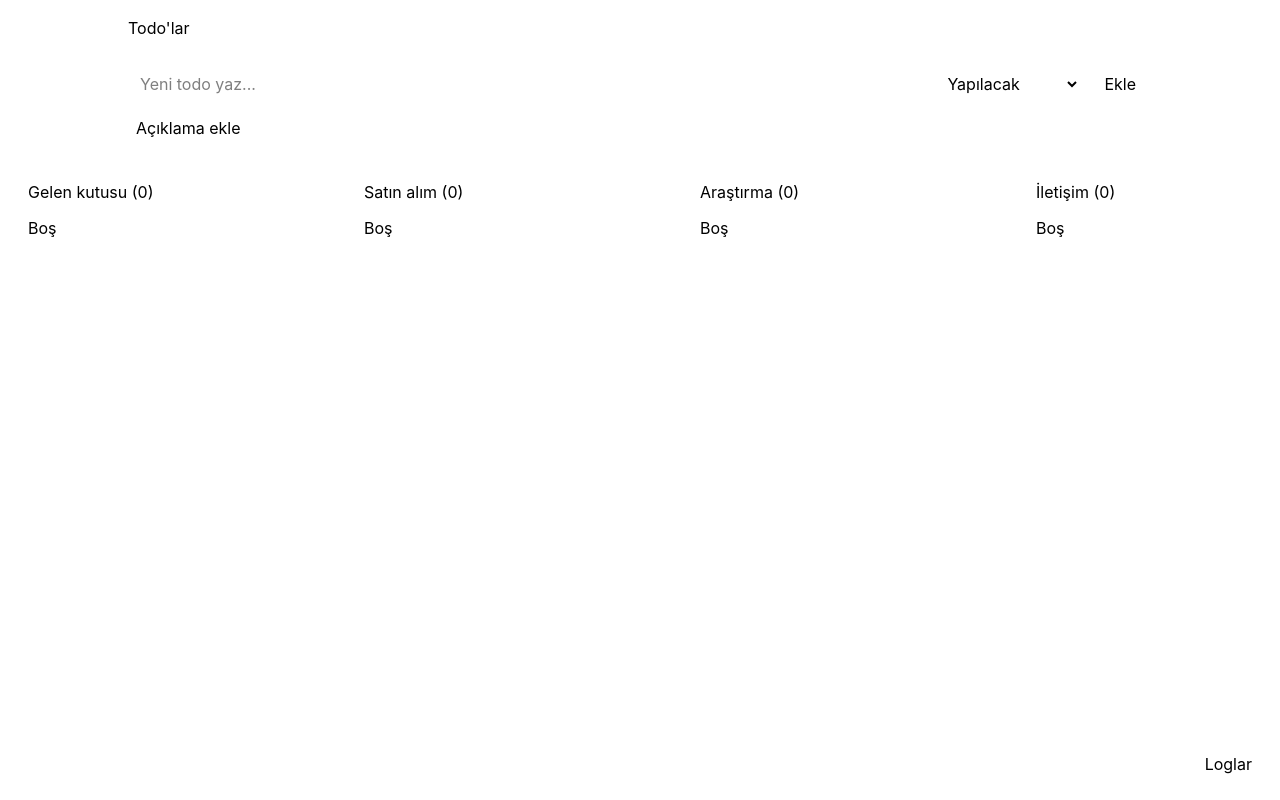
Scenario: add form › clears title and description after adding, closes the description field and keeps the status
The width and height of the screenshot is (1280, 800).
Type "Süt al" into the field named "Todo başlığı" at (526, 84), box [128,64,923,104]
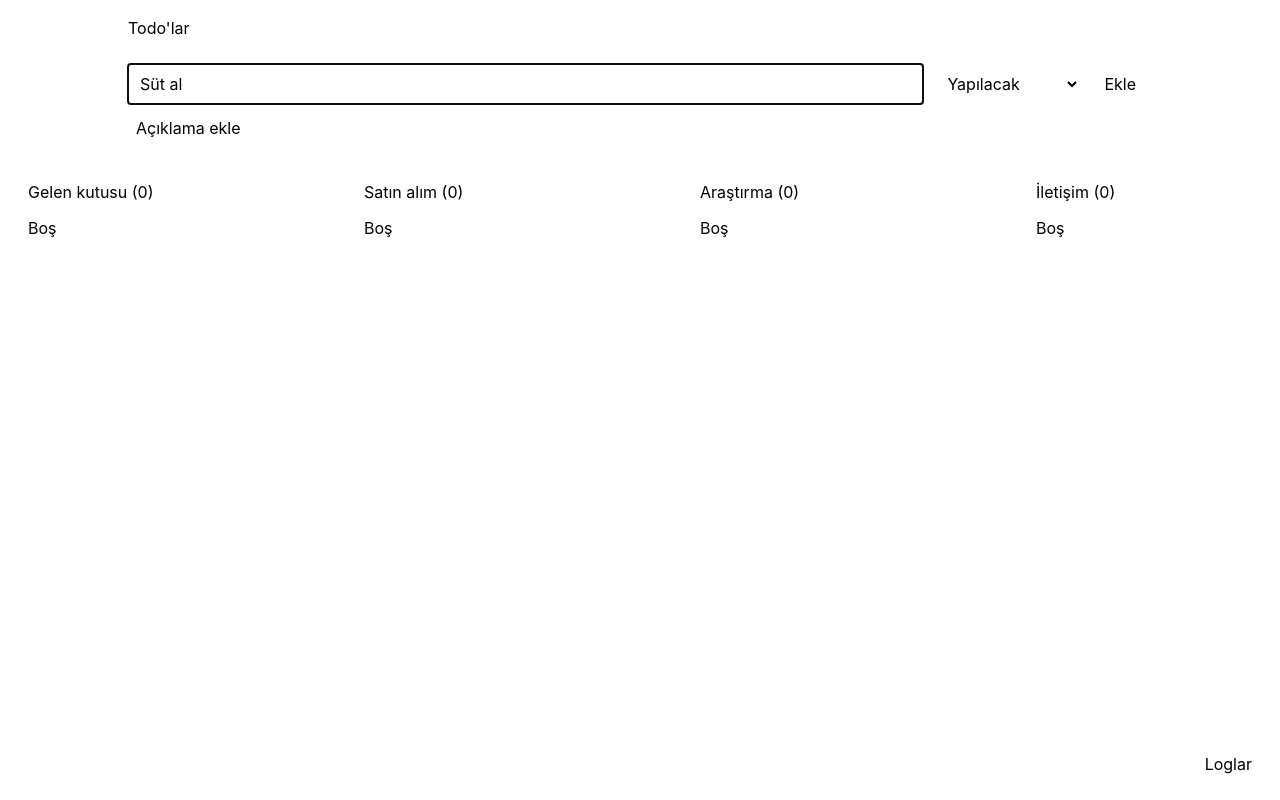
Click the button "Açıklama ekle" at (188, 128), box [128,112,248,144]
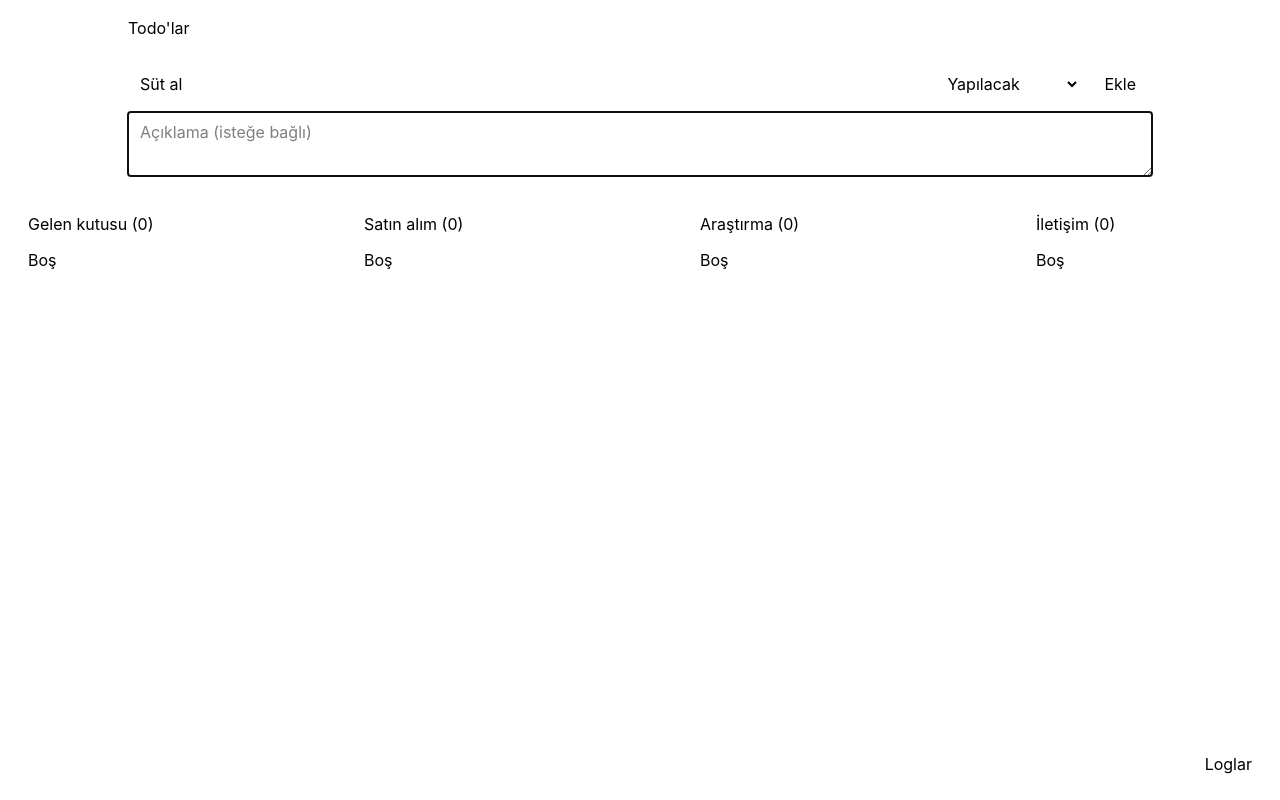
Type "2 litre" into the text box labelled "Açıklama" at (640, 144), box [128,112,1152,176]
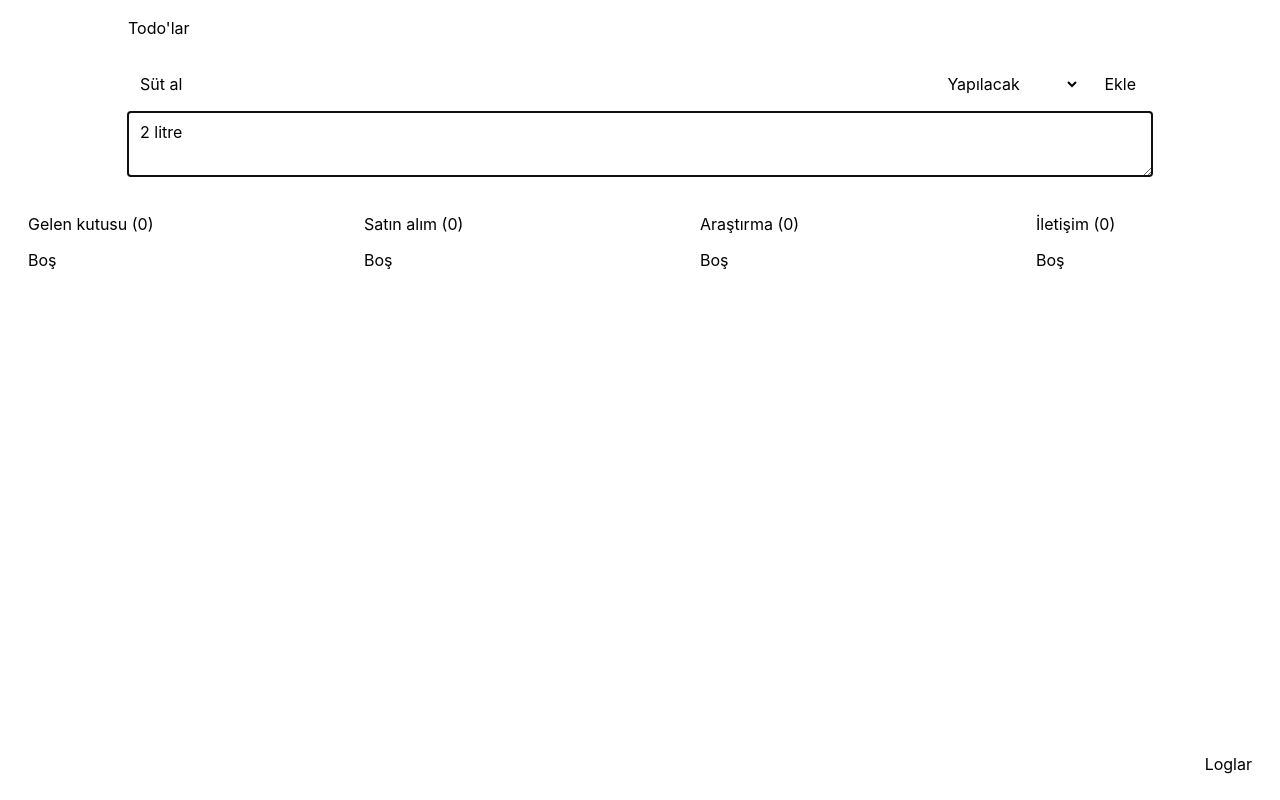
Select "Tamamlandı" in the dropdown named "Durum" at (1006, 84), box [931,64,1080,104]
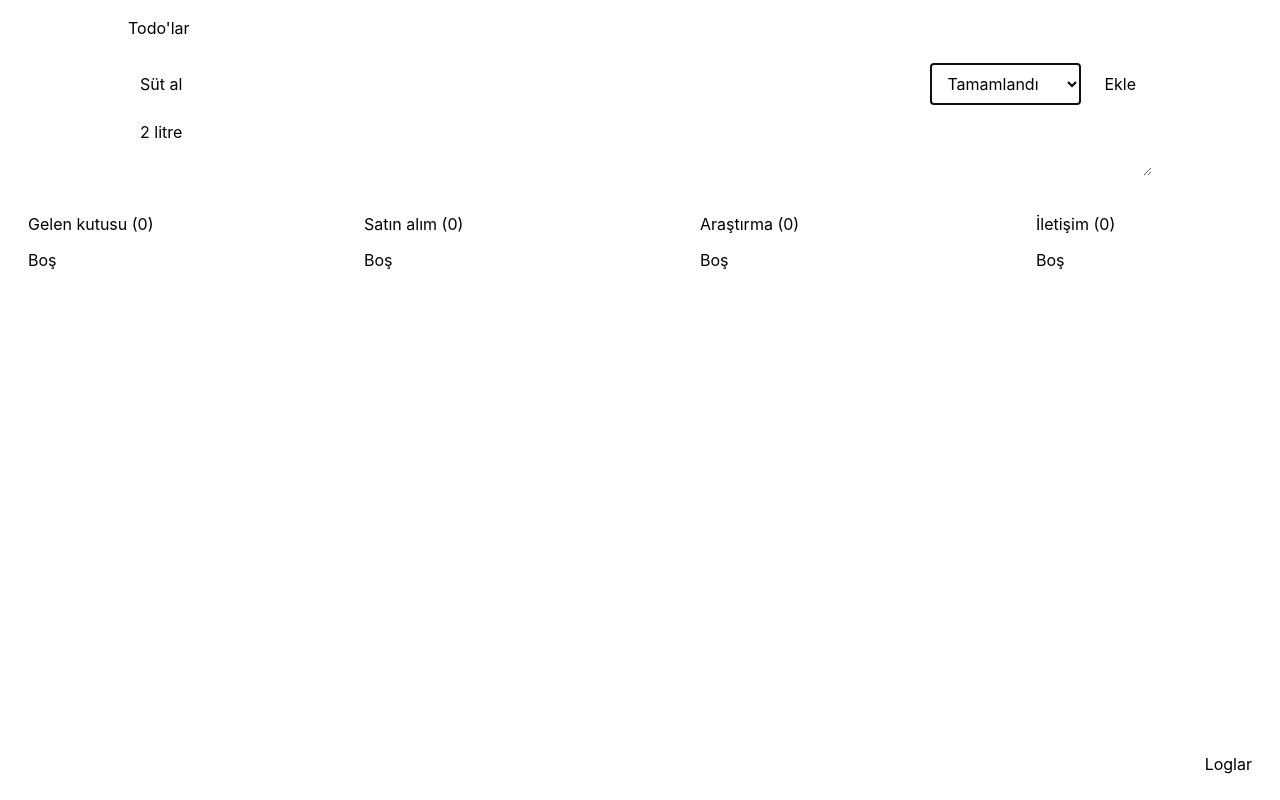
Click the button "Ekle" at (1120, 84), box [1088,64,1152,104]
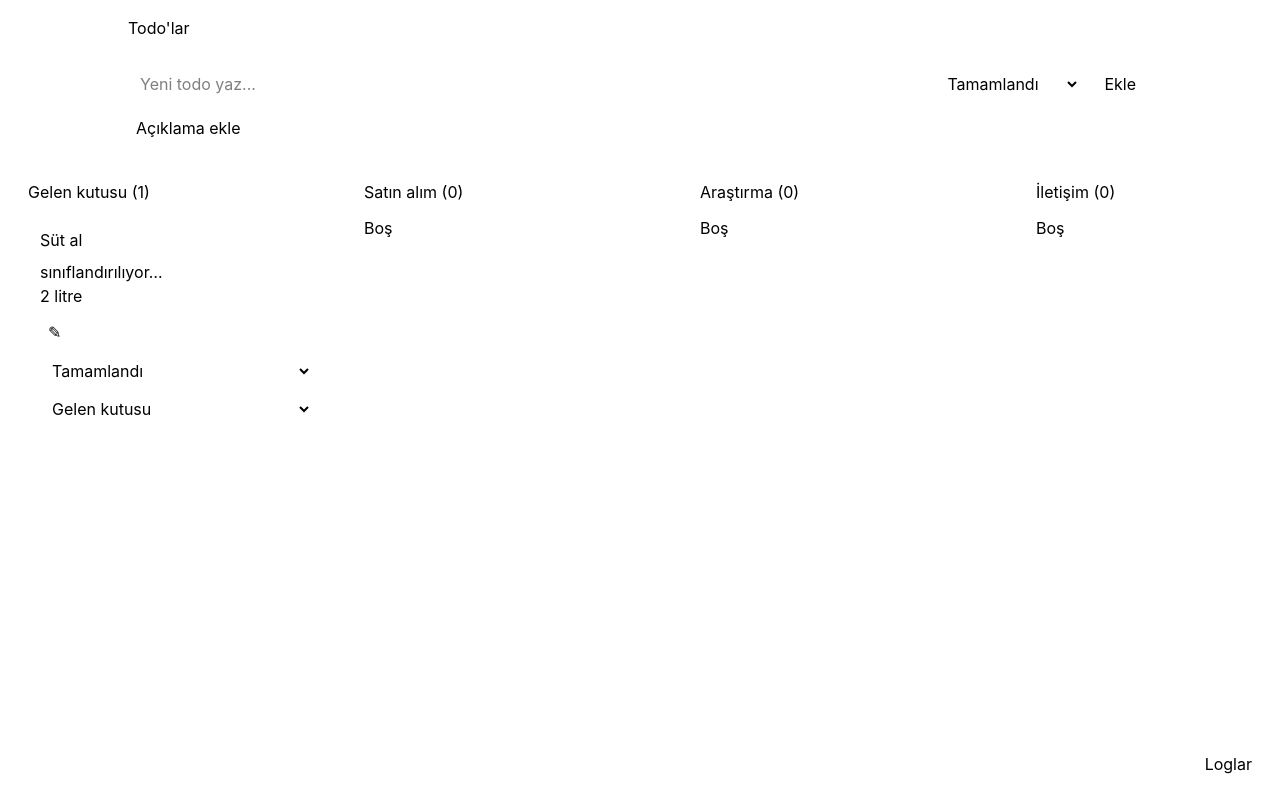
Check: the heading "Gelen kutusu (1)" is shown, box [28,182,150,202]
Check: the field named "Todo başlığı" is empty, box [128,64,923,104]
Check: the button "Açıklama ekle" is shown, box [128,112,248,144]
